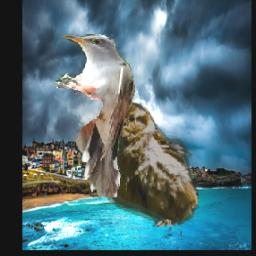Cuckoo: (56, 35, 136, 198)
Sparrow: (107, 104, 199, 228)
